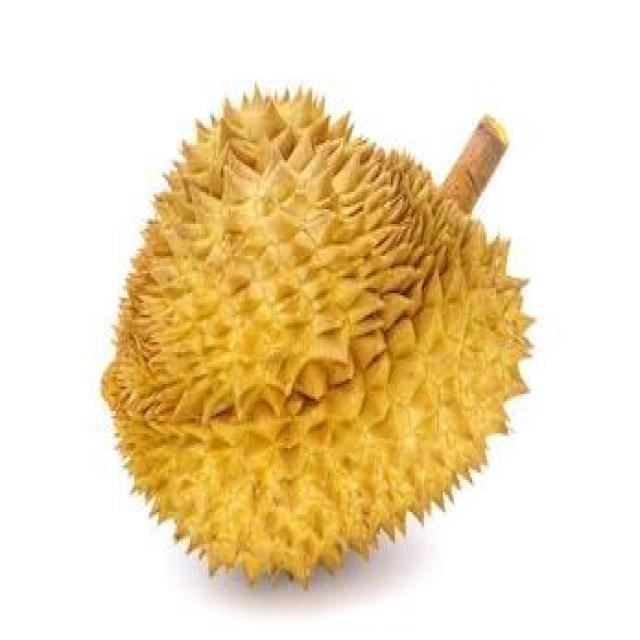mature: (102, 90, 530, 583)
